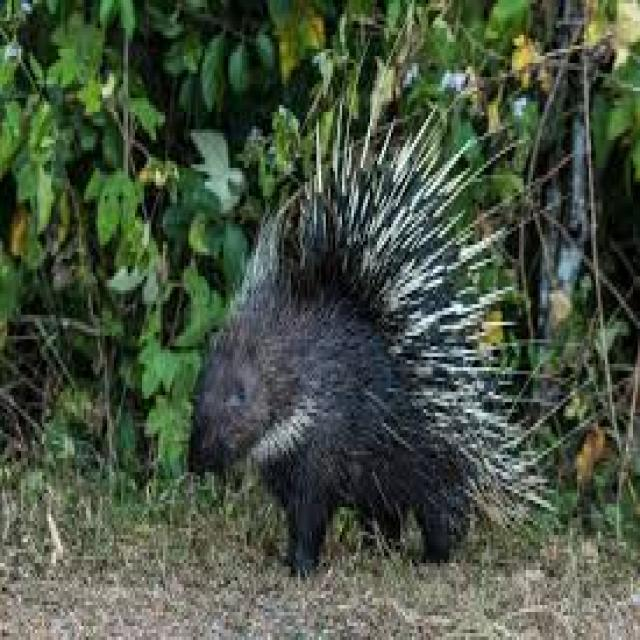Porcupine: (186, 130, 507, 564)
